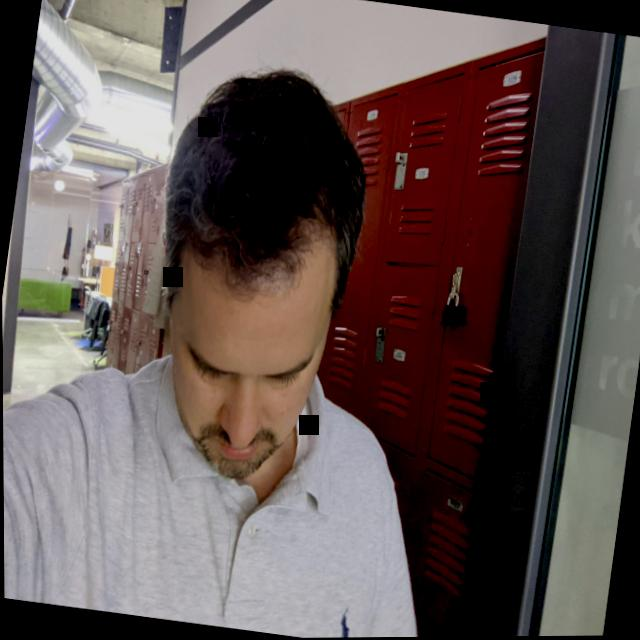NO-Mask: (145, 223, 340, 495)
